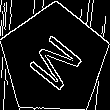M_SE: (21, 26, 88, 94)
